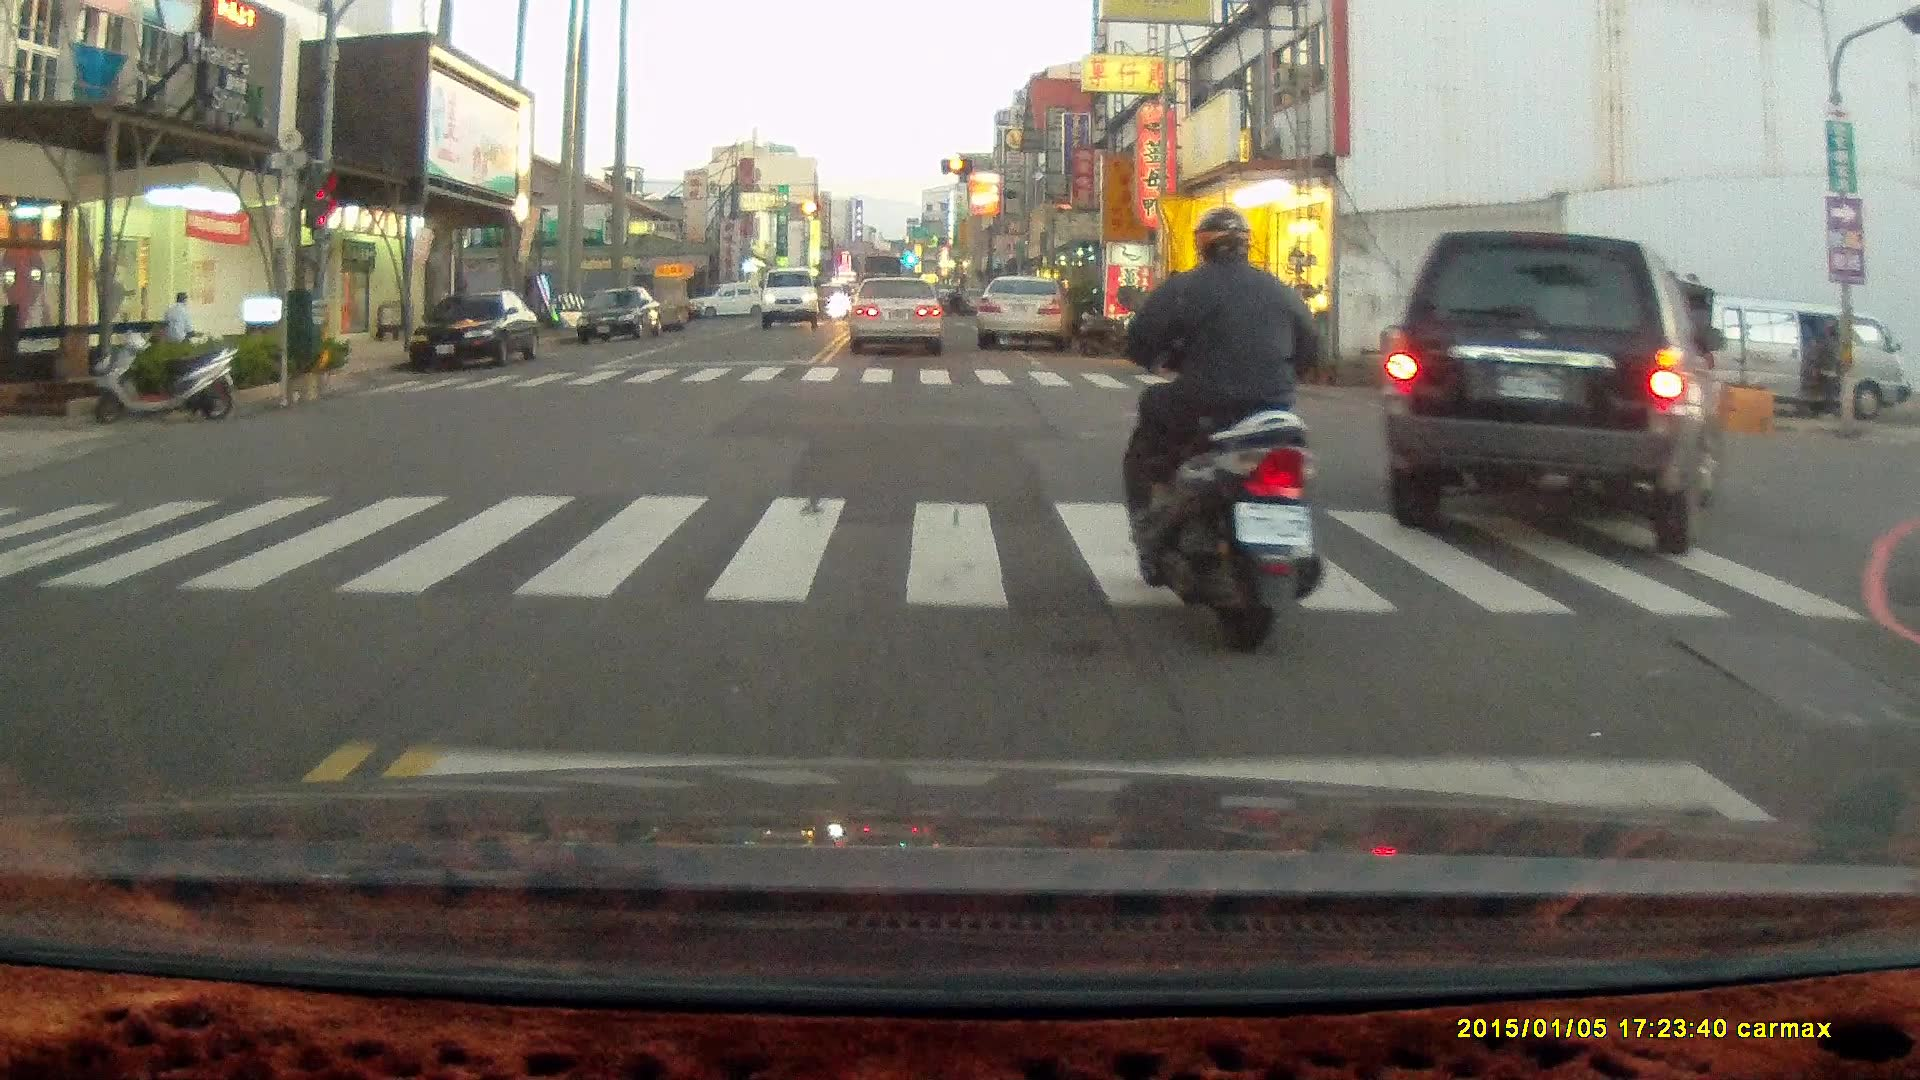pedestrian: (161, 290, 198, 357), (1817, 327, 1842, 418)
rider: (1116, 210, 1332, 664)
vehicle: (1390, 233, 1728, 556), (1660, 294, 1911, 422), (410, 297, 540, 384), (972, 266, 1075, 347), (849, 277, 945, 358), (576, 291, 665, 351), (761, 269, 823, 333)
